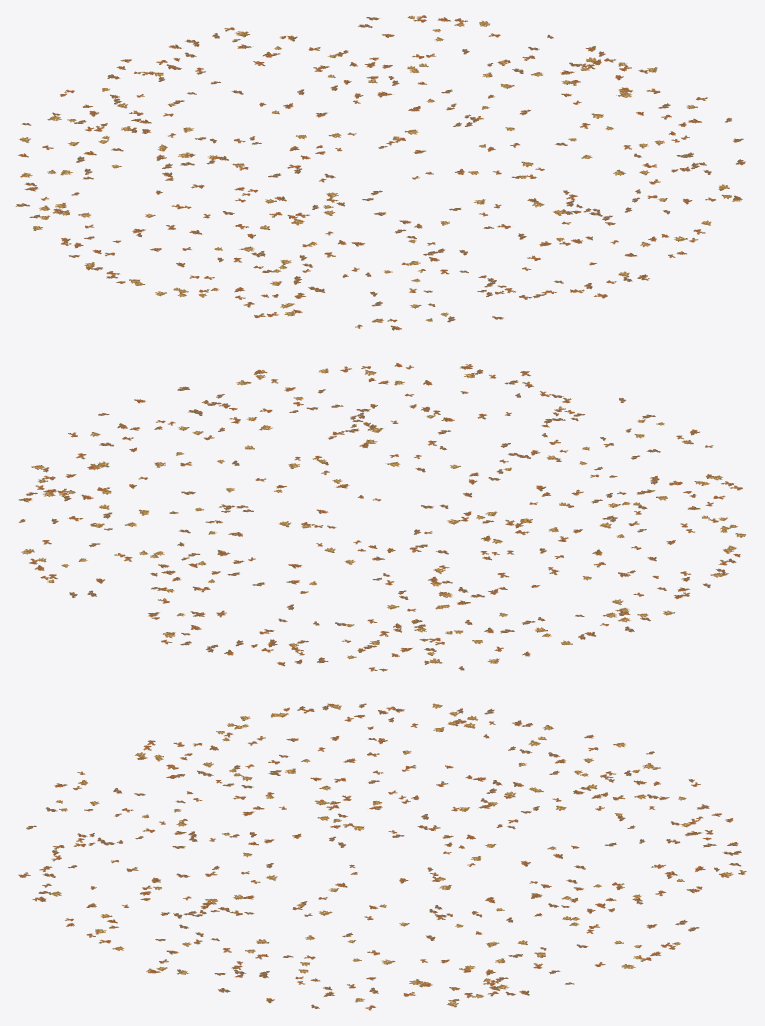
Rendered from hetre_vieux_a.fbx.
3 views of the same model, one above another, from view 1: azimuth 30°, elevation 25°; view 2: azimuth 150°, elevation 25°; view 3: azimuth 270°, elevation 25° (orthographic).
Parts seen in each view (by area): view 1: hetre_vieux_a_feuilles_sol; view 2: hetre_vieux_a_feuilles_sol; view 3: hetre_vieux_a_feuilles_sol.
Boxes of the visible parts, left/top/right/bottom form: hetre_vieux_a_feuilles_sol: left=15, top=15, right=745, bottom=330; hetre_vieux_a_feuilles_sol: left=18, top=363, right=745, bottom=671; hetre_vieux_a_feuilles_sol: left=18, top=703, right=746, bottom=1010.
Size of what is drawn, in the model's own units: 19.2 by 0.006 by 19.26.
